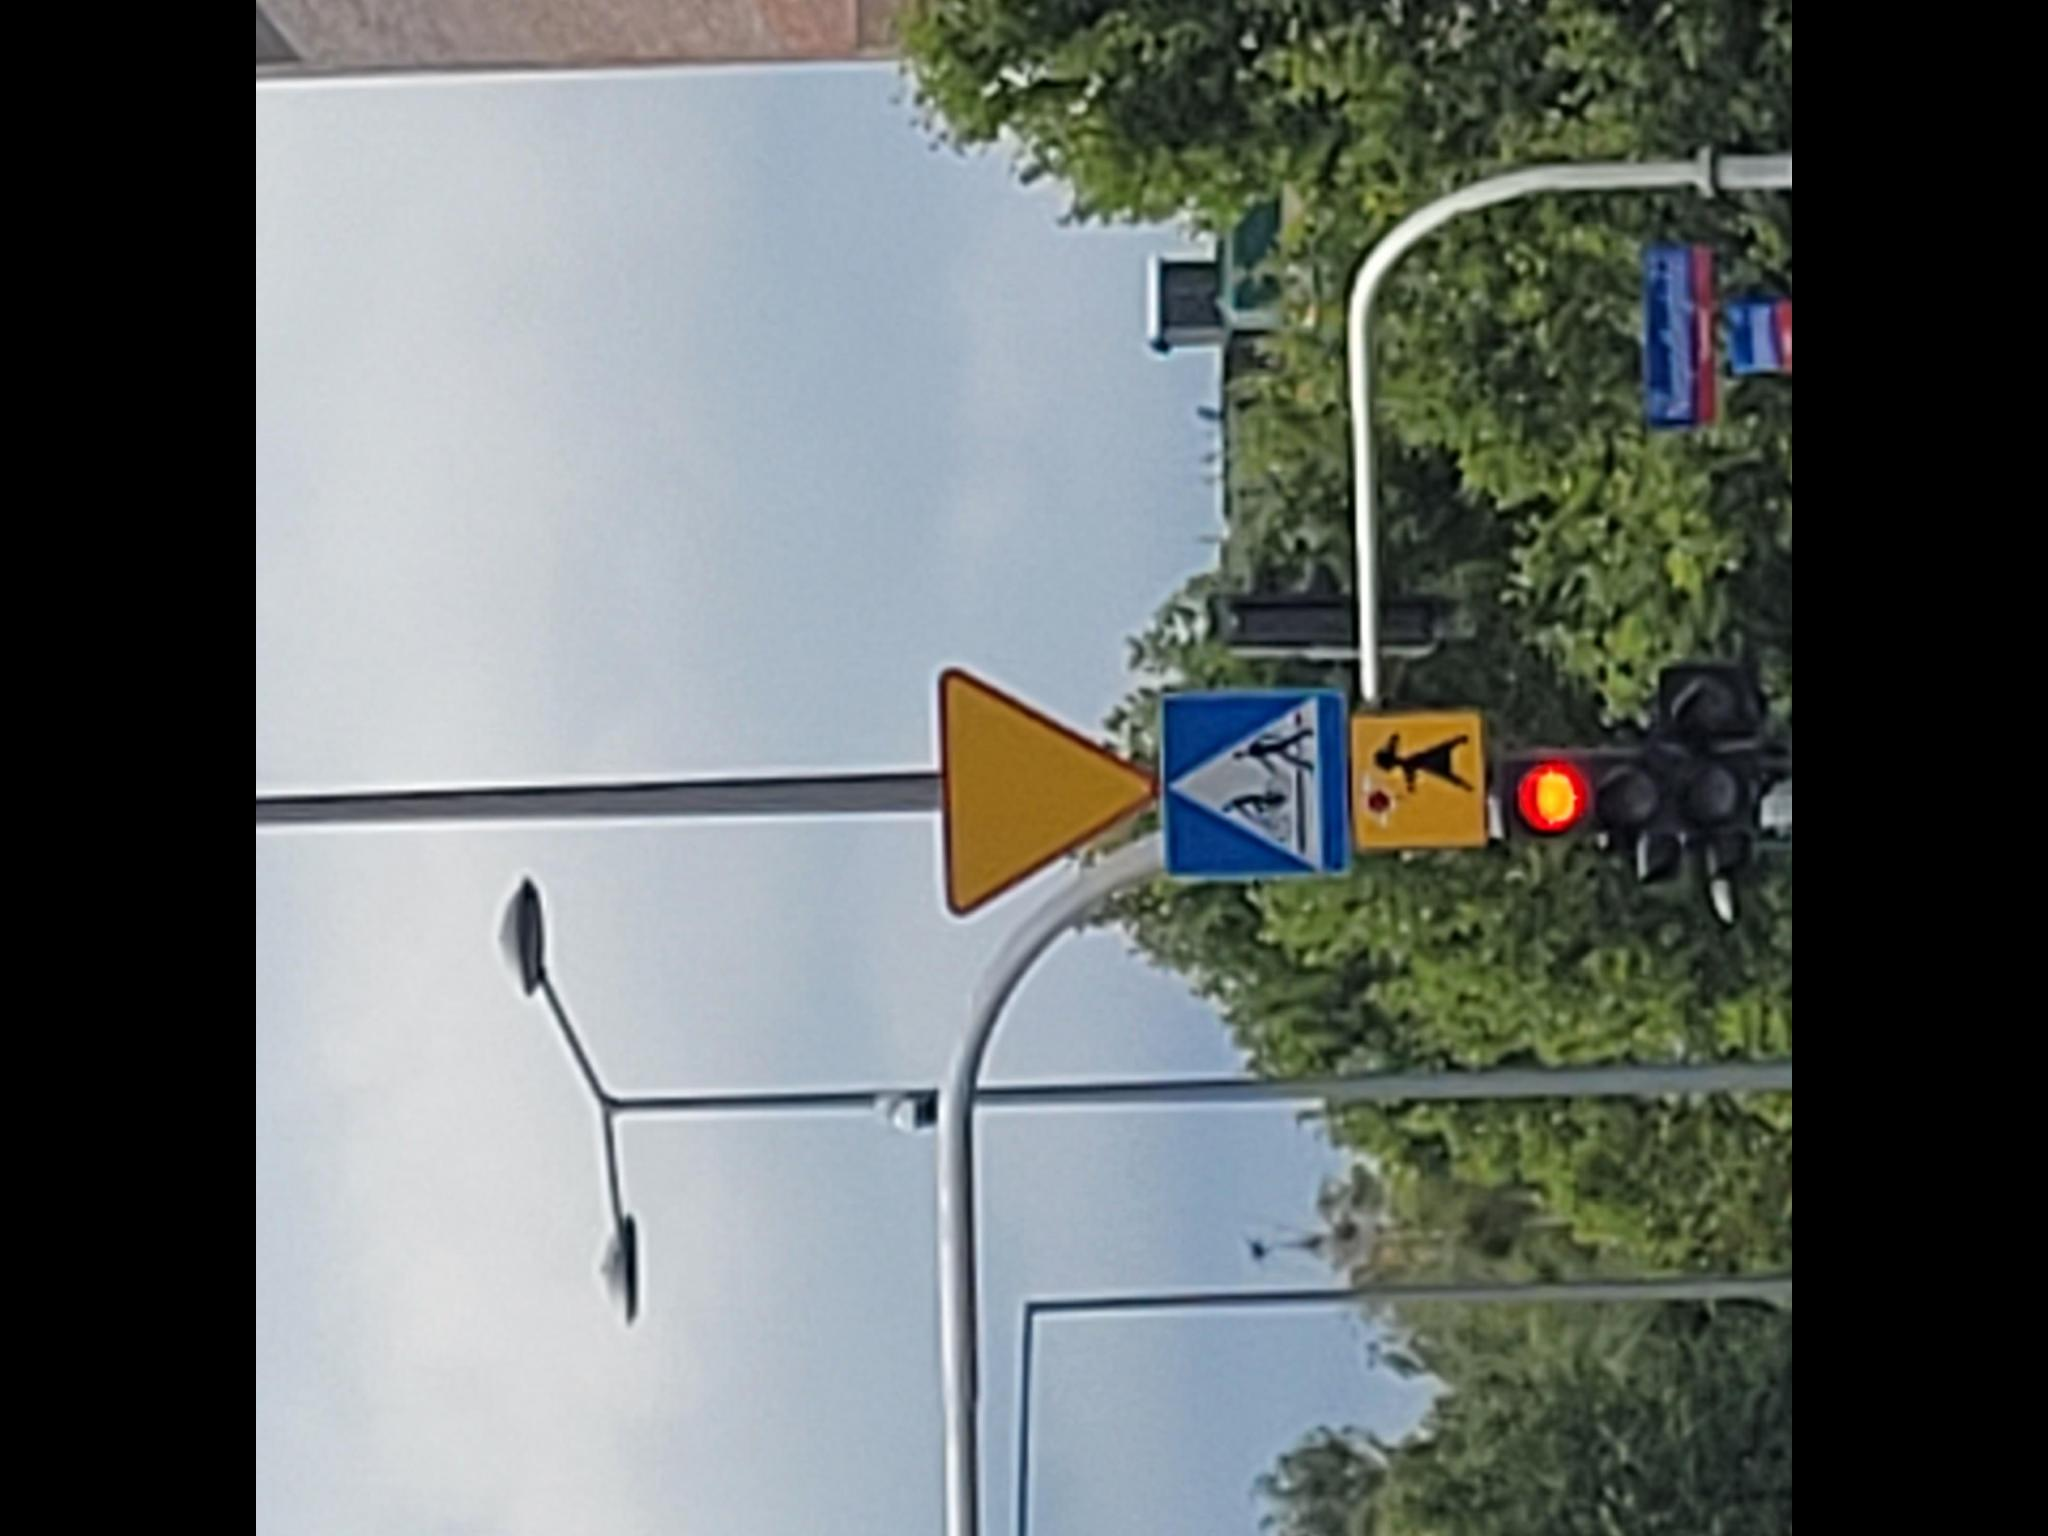information: (1169, 692, 1350, 878)
other: (1355, 710, 1484, 844)
warning: (935, 663, 1163, 920)
